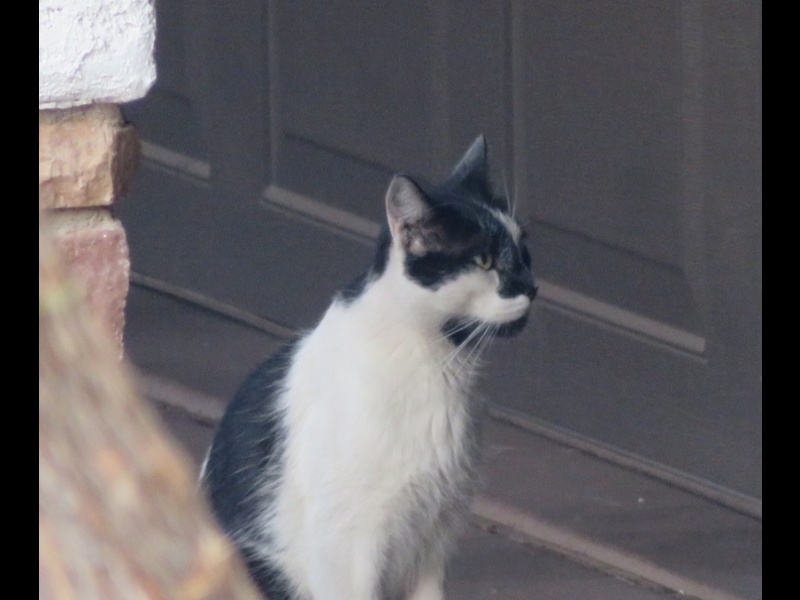cat: (196, 134, 540, 593)
